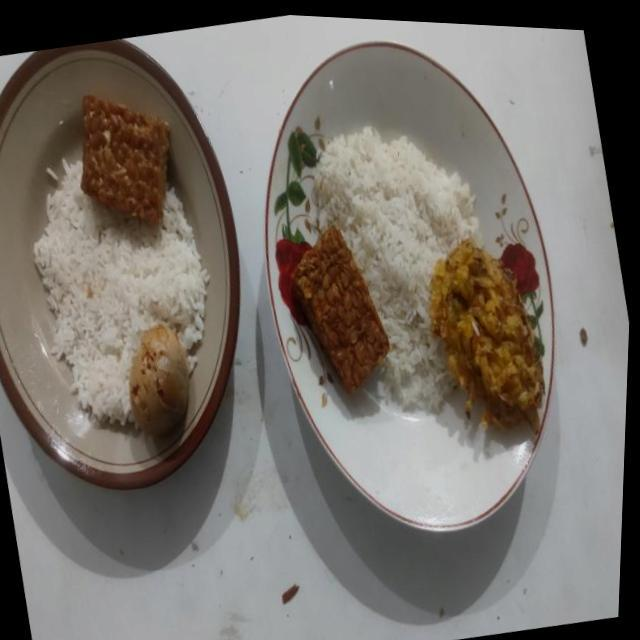nasi_putih: (316, 126, 482, 411), (34, 162, 210, 424)
tempe_goreng: (292, 225, 390, 393), (81, 96, 169, 225)
